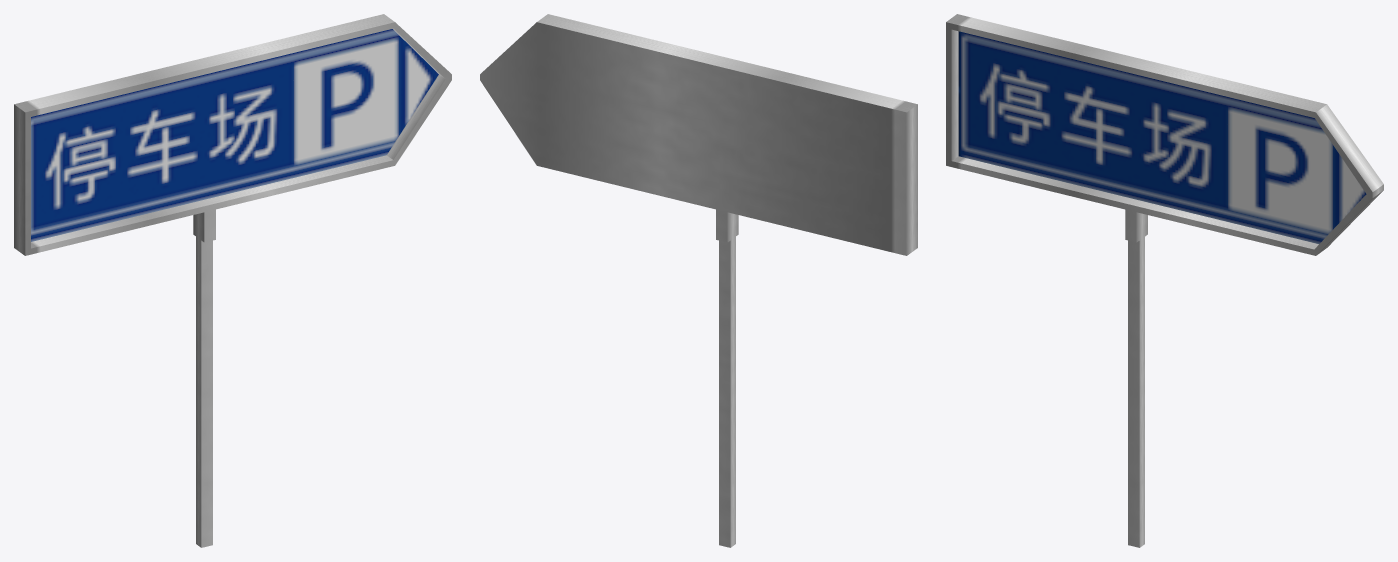
Rendered from group_sign_1.obj.
3 views of the same model, side by side, from view 1: azimuth 30°, elevation 25°; view 2: azimuth 150°, elevation 25°; view 3: azimuth 330°, elevation 25° (orthographic).
Visible parts, largest first — view 1: chen_pai_c2, zhi_shi_pai01; view 2: zhi_shi_pai01; view 3: chen_pai_c2, zhi_shi_pai01.
Part boxes in pixels (box(x1,y1,x2,y2)): chen_pai_c2: box(31, 29, 438, 241); zhi_shi_pai01: box(14, 14, 451, 547); zhi_shi_pai01: box(480, 14, 917, 547); chen_pai_c2: box(958, 31, 1366, 243); zhi_shi_pai01: box(946, 14, 1383, 547).
Bounding box in the file's own units: 20.07 × 21.63 × 0.907.
2 materials, 2 textured.
